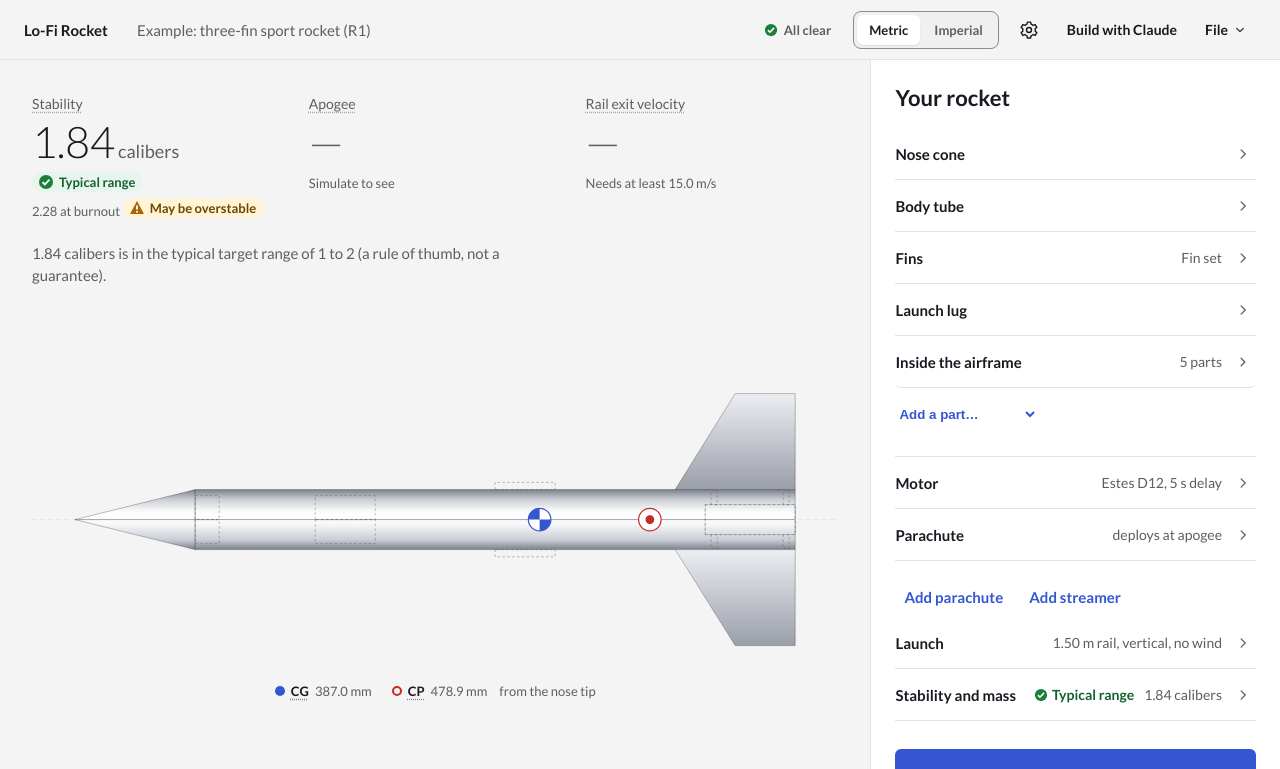
Test: App (plan 0012) › rejects a zero chord with a plain message and keeps the figures; a larger fin moves the CP aft
The width and height of the screenshot is (1280, 769).
Click the option "Fins Fin set".
click(1202, 257)  # box x1=895 y1=232 x2=1256 y2=284
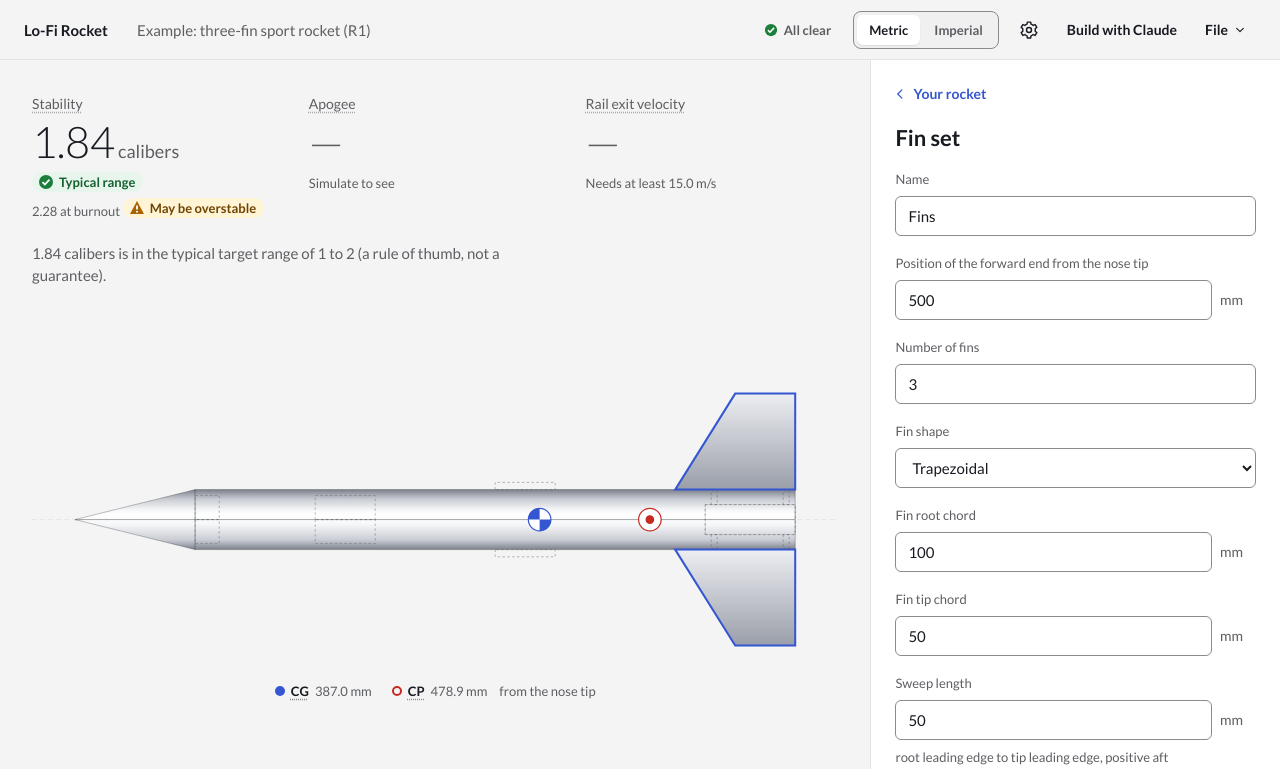
Replace the text in the field labelled "Fin root chord" with "0" at (1054,552), box x1=895 y1=532 x2=1212 y2=572
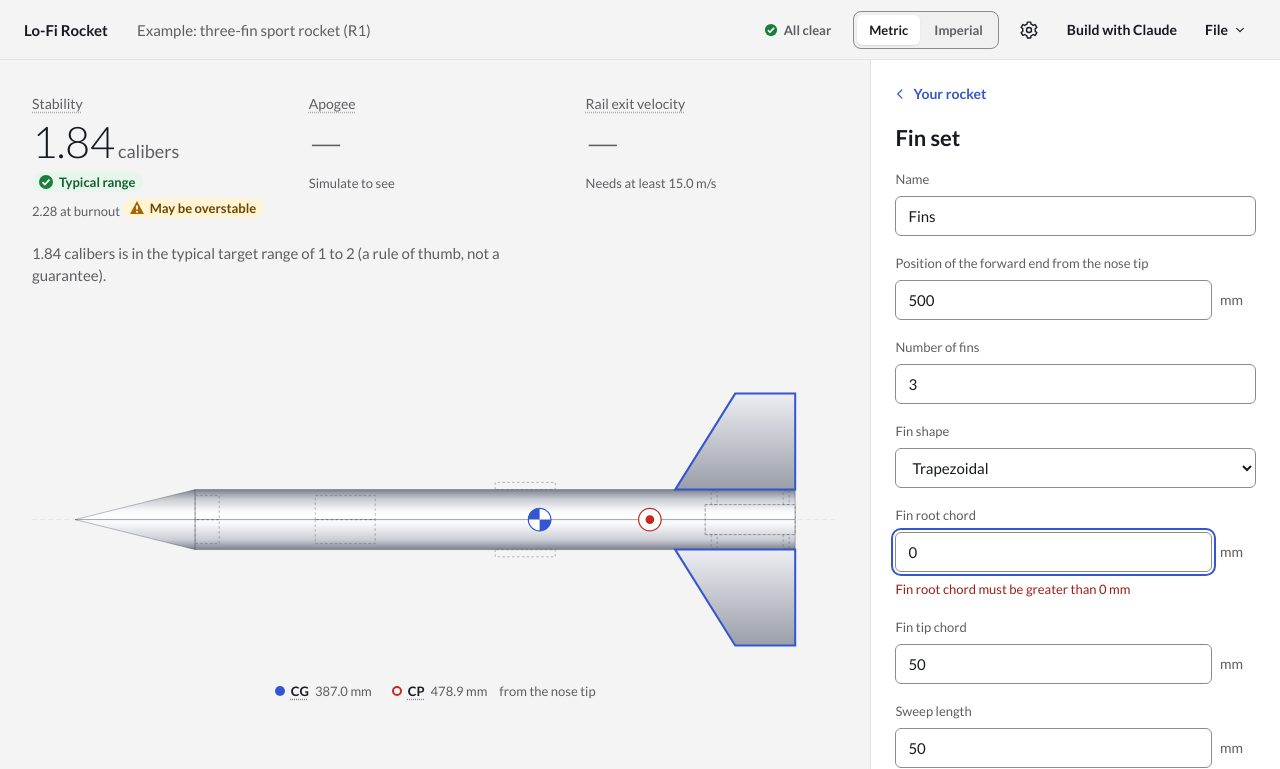
Check: the message reads "Fin root chord must be greater than 0 mm", box x1=895 y1=581 x2=1130 y2=597
Replace the text in the field labelled "Fin root chord" with "150" at (1054,552), box x1=895 y1=532 x2=1212 y2=572
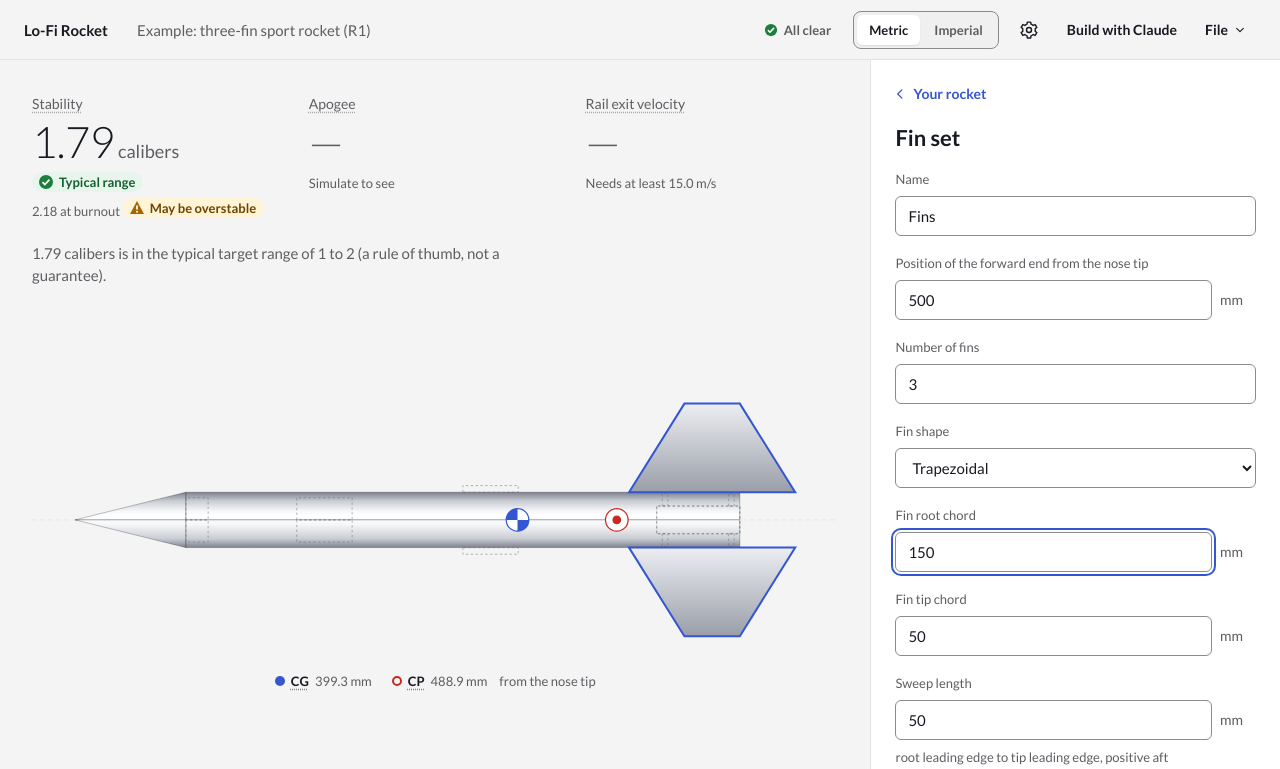
Check: the message "Fin root chord must be a number" is gone
